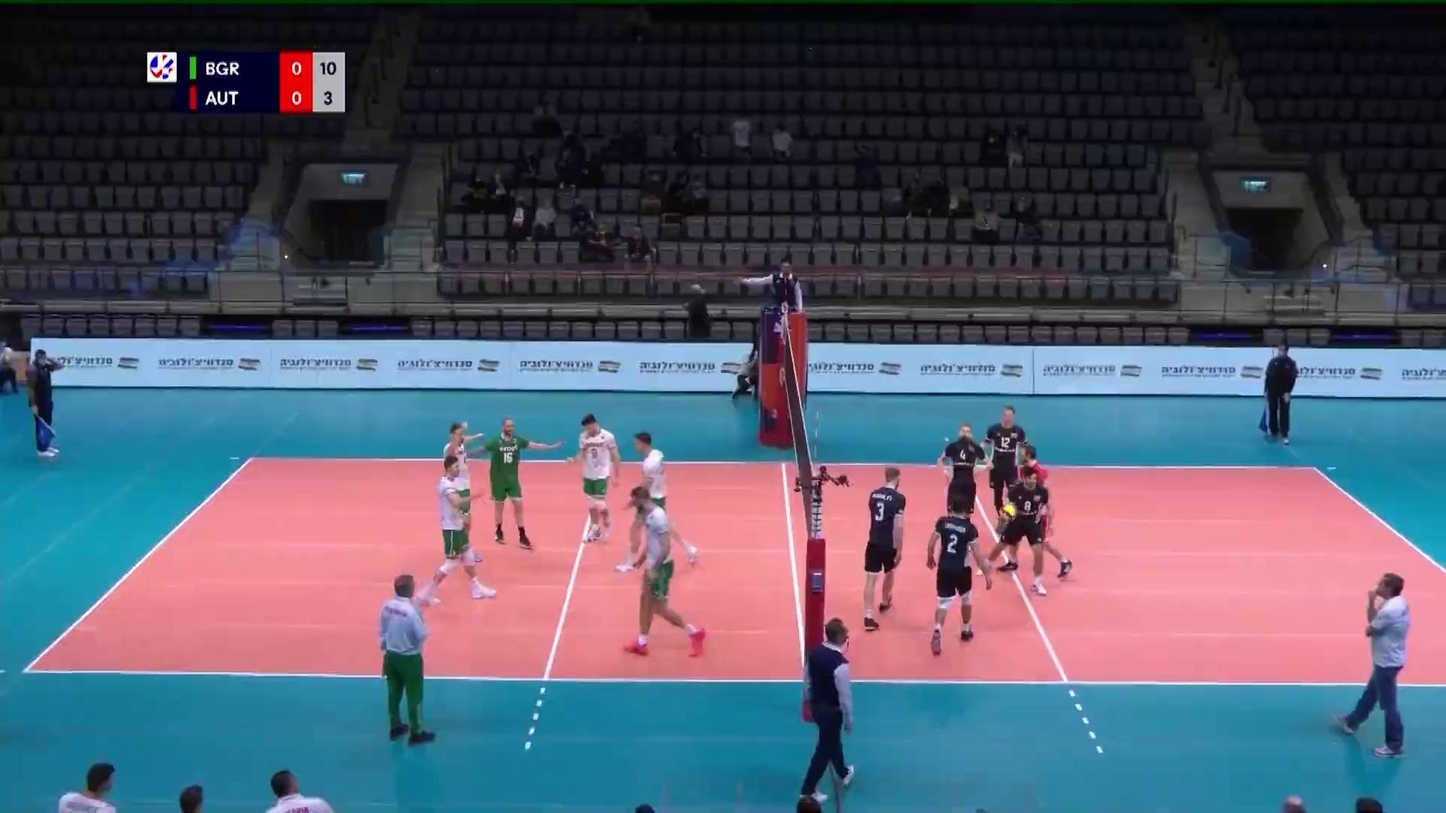ball: (999, 504, 1017, 522)
